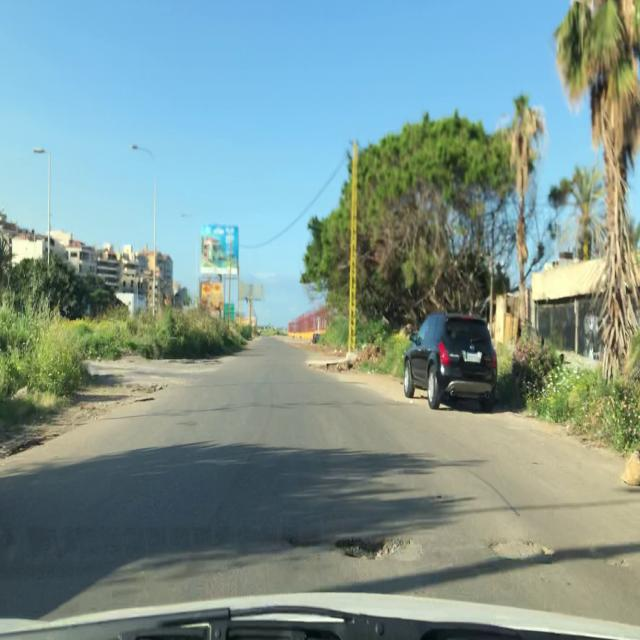Pothole: (333, 528, 418, 573), (484, 531, 565, 568)
